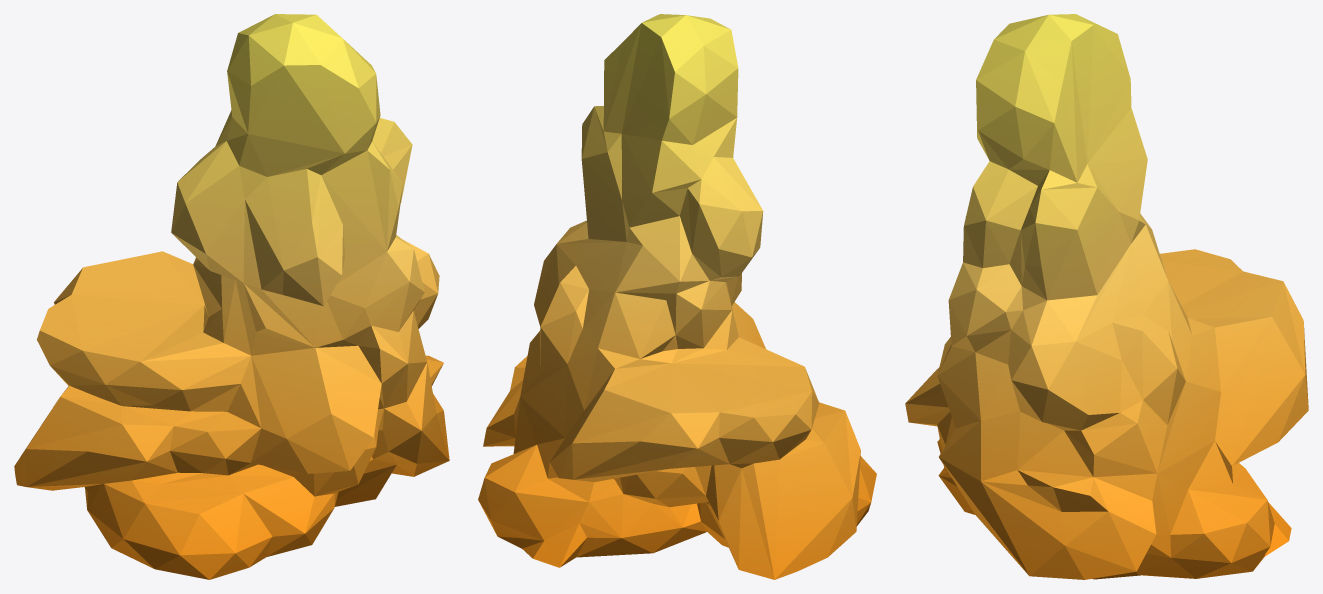
File: SM_Rock_6.fbx
The picture shows the model from 3 angles, left to right: view 1: azimuth 30°, elevation 25°; view 2: azimuth 150°, elevation 25°; view 3: azimuth 270°, elevation 25°; orthographic projection. The views are drawn at different scales.
Visible parts, largest first — view 1: Rock_6; view 2: Rock_6; view 3: Rock_6.
Boxes of the visible parts, x1,y1,x2,y2 form: Rock_6: [14, 14, 449, 579]; Rock_6: [478, 14, 876, 579]; Rock_6: [905, 14, 1308, 579].
Size of the model in its own units: 853 by 1028 by 739.
